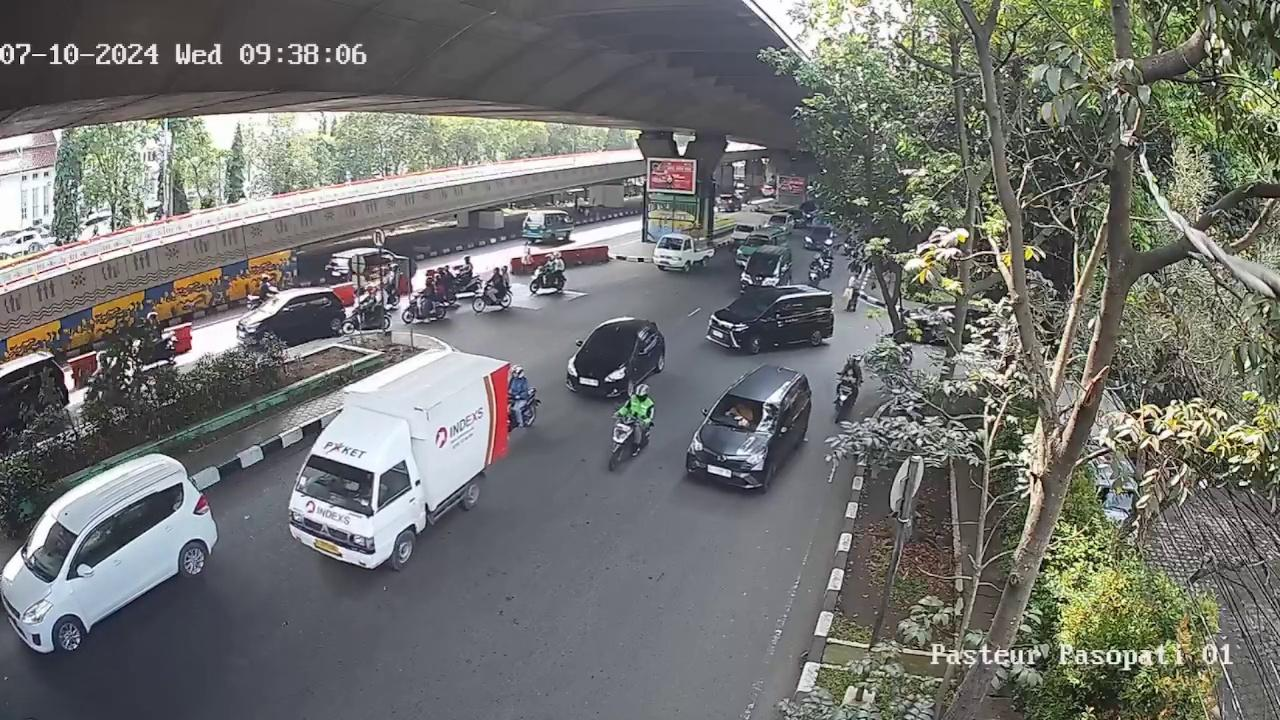pakai: (725, 400, 757, 425)
windshield: (295, 450, 378, 516), (23, 513, 77, 572), (710, 393, 778, 434), (584, 331, 634, 359), (729, 292, 774, 319), (748, 255, 779, 272)
